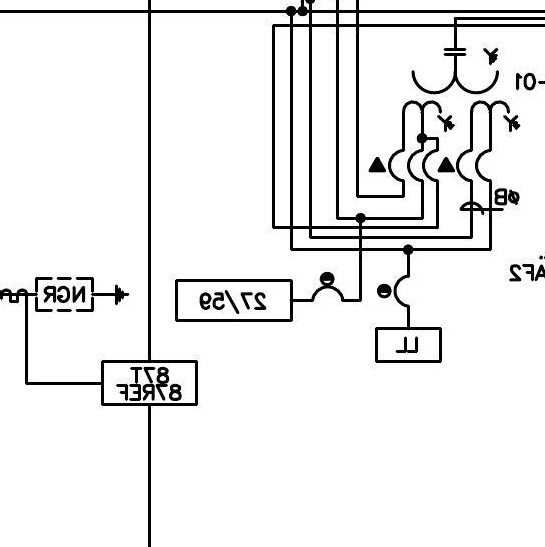115_cvt_3p: (401, 48, 521, 133)
LL: (375, 327, 442, 363)
NGR_future: (35, 276, 130, 313)
